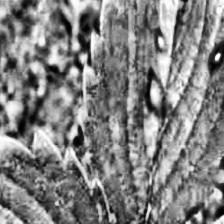Leaf Spot: (79, 0, 224, 224), (0, 127, 120, 224)
